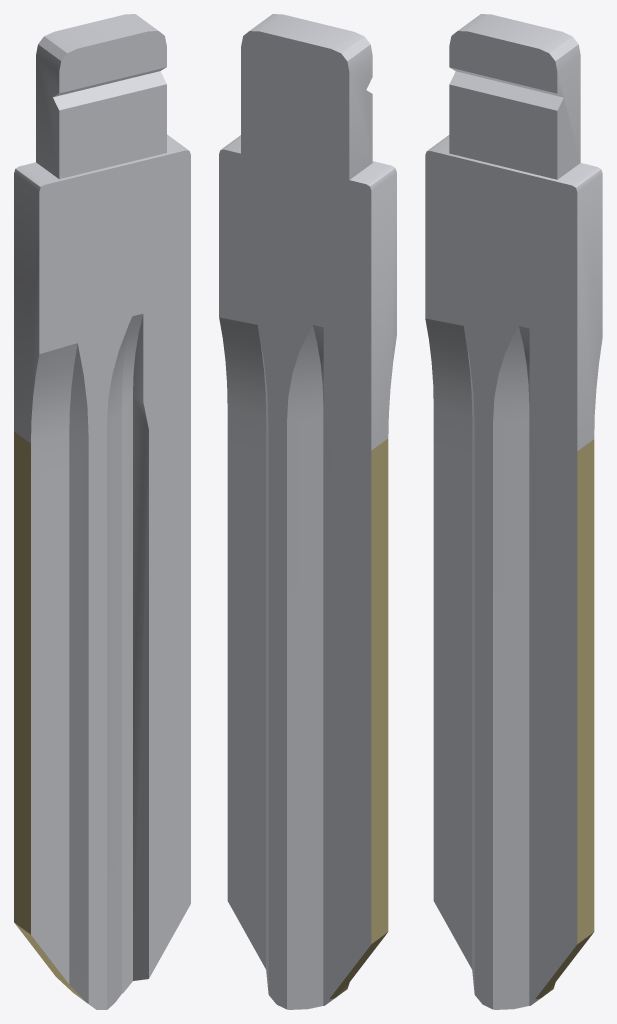
3 views of the same model, side by side, from view 1: azimuth 30°, elevation 25°; view 2: azimuth 150°, elevation 25°; view 3: azimuth 330°, elevation 25° (orthographic).
Visible parts, largest first — view 1: Box003; view 2: Box003; view 3: Box003.
Part boxes in pixels (x1,y1,x2,y2): Box003: [14, 14, 190, 1009]; Box003: [219, 14, 396, 1009]; Box003: [425, 14, 602, 1009].
Bounding box in the file's own units: 8.3 × 50.6 × 2.4.
